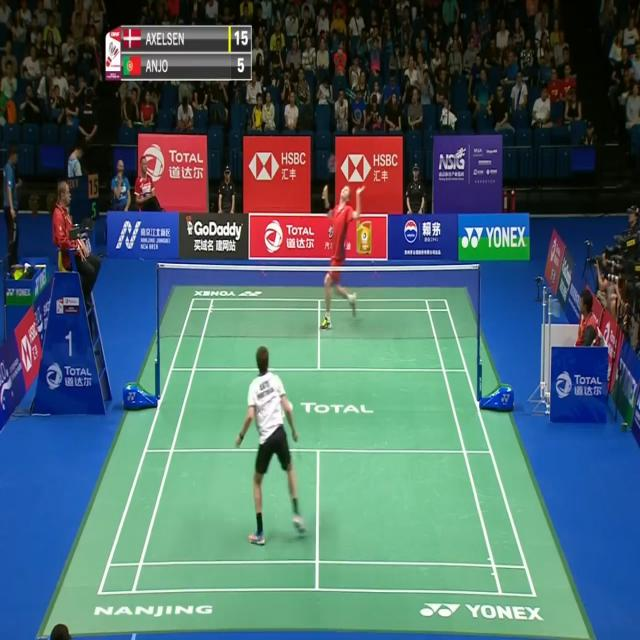Player1: (233, 336, 310, 553)
Player2: (319, 154, 370, 334)
